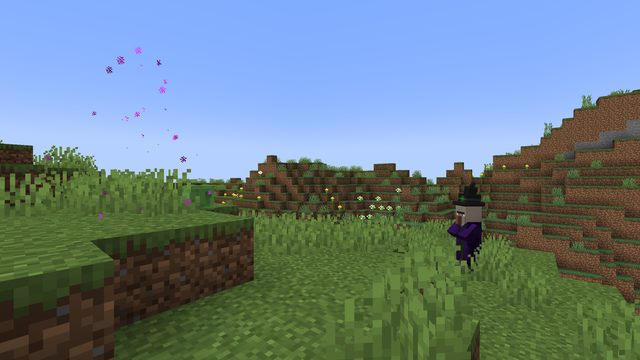slimes: (178, 184, 213, 210)
sorcieres: (454, 201, 481, 274)
